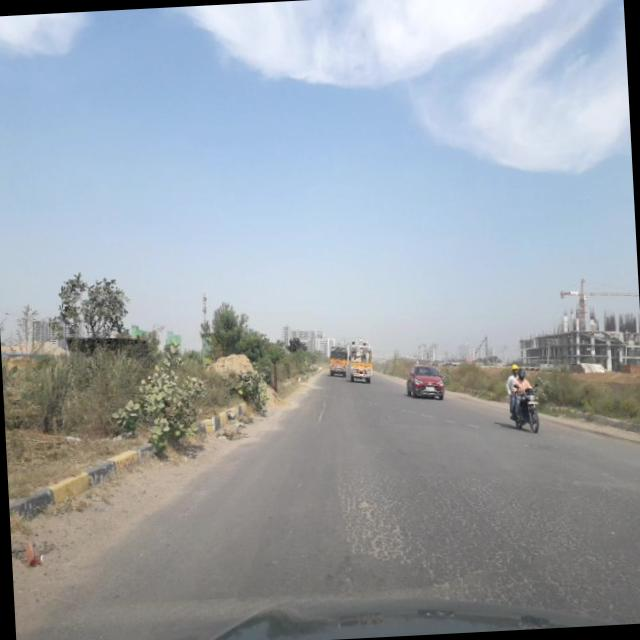crack: (337, 428, 640, 622)
